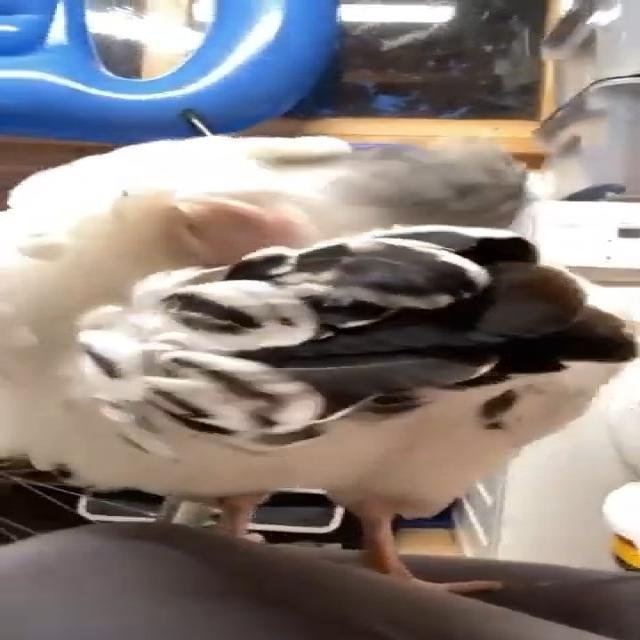self preening: (0, 134, 619, 596)
